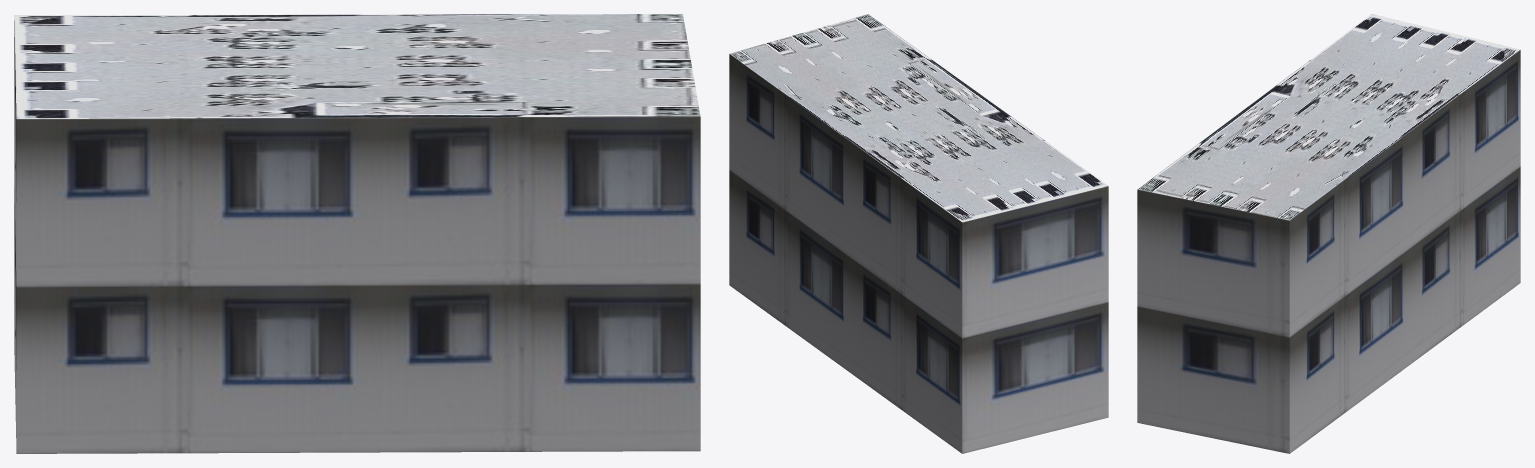
Rendered from ResTex__2377.fbx.
3 renders of one model, left to right at view 1: azimuth 30°, elevation 25°; view 2: azimuth 150°, elevation 25°; view 3: azimuth 270°, elevation 25°, orthographic. The views are drawn at different scales.
Visible parts, largest first — view 1: CityEngineMaterial_9_m, CityEngineMaterial_m; view 2: CityEngineMaterial_9_m, CityEngineMaterial_m; view 3: CityEngineMaterial_9_m, CityEngineMaterial_m.
Part boxes in pixels (x1,y1,x2,y2): CityEngineMaterial_9_m: (14,20,700,453); CityEngineMaterial_m: (14,14,700,118); CityEngineMaterial_9_m: (729,54,1108,453); CityEngineMaterial_m: (729,14,1107,222); CityEngineMaterial_9_m: (1137,50,1520,453); CityEngineMaterial_m: (1137,14,1519,220).
Size of the model in its own units: 11.39 by 6 by 8.93.
Materials: 2 (2 with a texture image).
